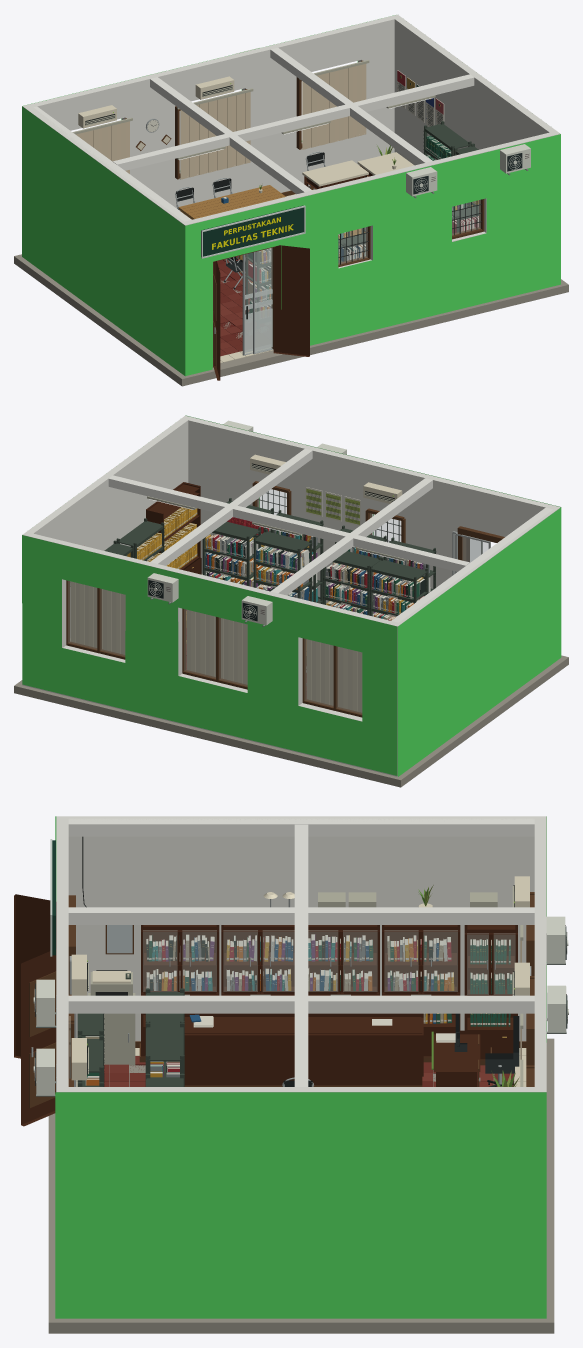
File: perpustakaan_indoor.glb
3 views of the same model, one above another, from view 1: azimuth 30°, elevation 25°; view 2: azimuth 150°, elevation 25°; view 3: azimuth 270°, elevation 25° (orthographic). The views are drawn at different scales.
Parts seen in each view (by area): view 1: Plane, Belakang | atas jendela, Dinding kanan, Lantai | pelat dasar, Belakang | ambang bawah, Balok plafon 6.001, Daun pintu kayu kanan, Tirai vertikal 4.6, Tirai vertikal 7.6, Belakang | pilar 7.63, Papan_Fakultas_Teknik_Papan, Balok plafon 3.1 (+22 smaller); view 2: Plane.001, Plane, Dinding kanan, Lantai | pelat dasar, Depan | bagian 04, Depan | bagian 03, Balok plafon 6.001, Jendela belakang 4.6, Depan | bagian 02, Jendela belakang 1.6, Jendela belakang 7.6, Tirai vertikal 4.6 (+28 smaller); view 3: Plane, Dinding kiri, Counter layanan memanjang, Lantai | pelat dasar, Balok plafon 6.2, Balok plafon 0, Balok plafon 3.1, Lemari kaca barat 04, Lemari kaca barat 01, Lemari kaca barat 02, Lemari kecil sudut petugas, Lemari kaca barat 03 (+24 smaller).
Boxes of the visible parts, <box> form: Plane: <box>22,106,560,376</box>; Belakang | atas jendela: <box>29,16,394,130</box>; Dinding kanan: <box>391,14,560,165</box>; Lantai | pelat dasar: <box>14,254,568,386</box>; Belakang | ambang bawah: <box>144,123,394,208</box>; Balok plafon 6.001: <box>113,74,474,170</box>; Daun pintu kayu kanan: <box>273,245,309,356</box>; Tirai vertikal 4.6: <box>177,88,253,179</box>; Tirai vertikal 7.6: <box>299,60,369,149</box>; Belakang | pilar 7.63: <box>242,76,296,154</box>; Papan_Fakultas_Teknik_Papan: <box>201,205,303,256</box>; Balok plafon 3.1: <box>150,77,312,194</box>; Plane.001: <box>22,535,397,775</box>; Plane: <box>185,415,561,776</box>; Dinding kanan: <box>22,415,191,686</box>; Lantai | pelat dasar: <box>14,655,568,787</box>; Depan | bagian 04: <box>188,417,259,574</box>; Depan | bagian 03: <box>290,442,372,603</box>; Balok plafon 6.001: <box>108,475,470,571</box>; Jendela belakang 4.6: <box>182,608,247,689</box>; Depan | bagian 02: <box>404,470,464,588</box>; Jendela belakang 1.6: <box>302,638,362,717</box>; Jendela belakang 7.6: <box>66,580,125,659</box>; Tirai vertikal 4.6: <box>186,610,247,684</box>; Plane: <box>55,816,546,1318</box>; Dinding kiri: <box>56,816,546,1041</box>; Counter layanan memanjang: <box>184,1013,423,1086</box>; Lantai | pelat dasar: <box>48,1038,554,1333</box>; Balok plafon 6.2: <box>68,995,534,1013</box>; Balok plafon 0: <box>68,818,534,836</box>; Balok plafon 3.1: <box>68,907,534,924</box>; Lemari kaca barat 04: <box>382,925,460,1062</box>; Lemari kaca barat 01: <box>139,925,219,1062</box>; Lemari kaca barat 02: <box>221,925,294,995</box>; Lemari kecil sudut petugas: <box>464,925,517,1065</box>; Lemari kaca barat 03: <box>308,925,379,995</box>.
Bounding box in the file's own units: 19.85 × 7.74 × 16.39.
